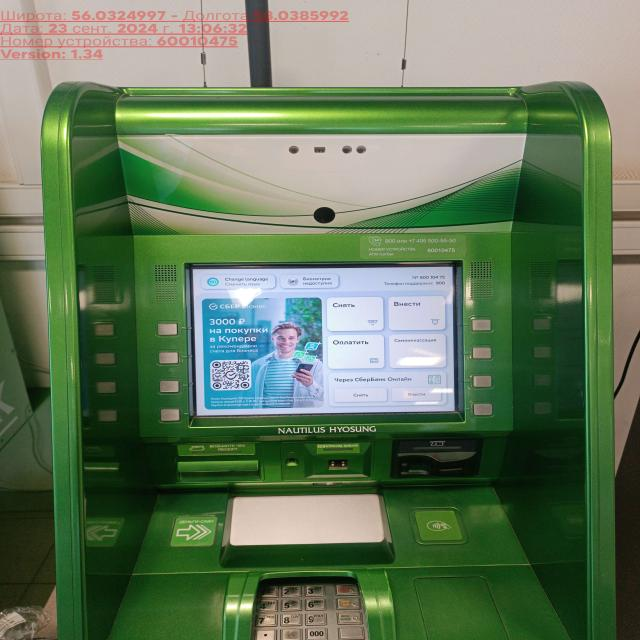bank: (38, 83, 640, 640)
